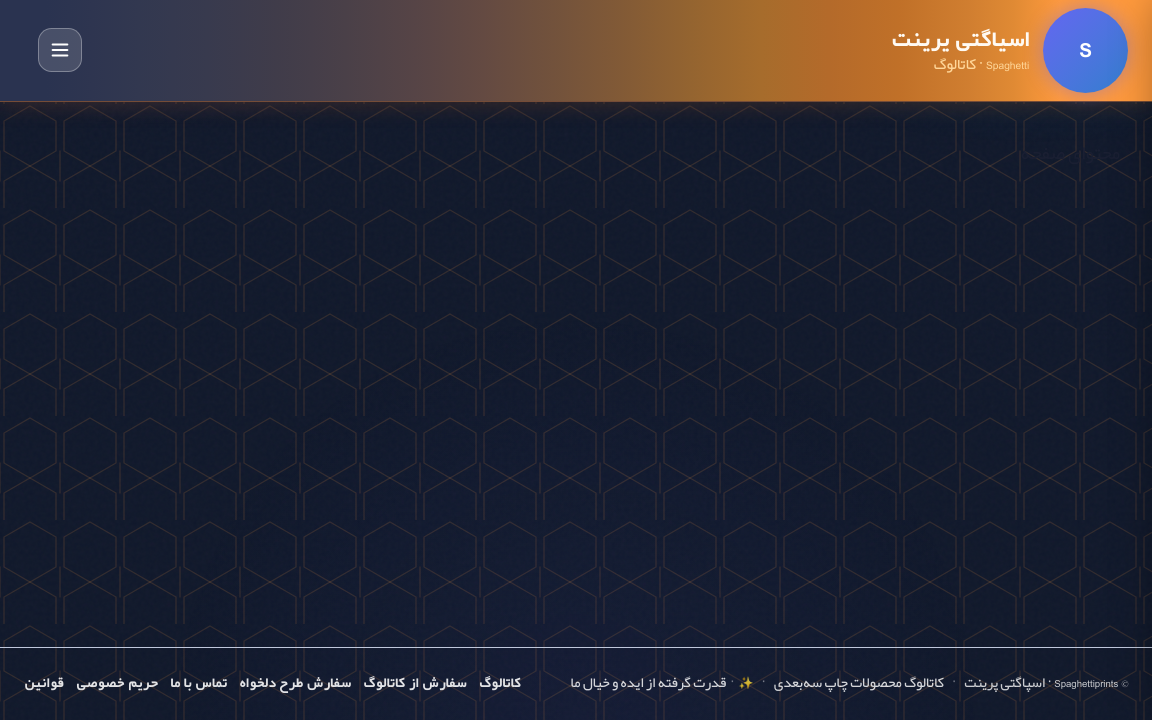
audited accessibility fixes 2026-08-23 › catalog mobile drawer receives focus, traps focus, restores focus, and hides page content while open
The image size is (1152, 720).
Click the button named "باز کردن منو".
click(60, 50)  # box [38,28,82,72]
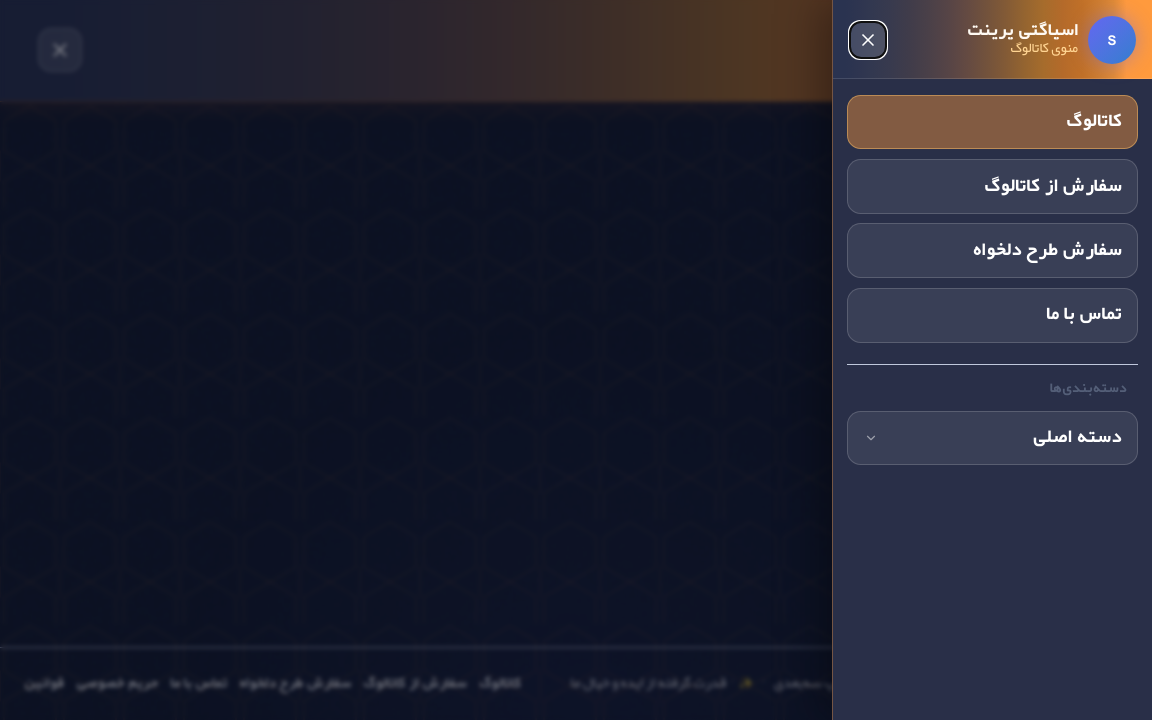
expect the button named "باز کردن منو" is expanded: met, box [38,28,82,72]
Press Shift+Tab
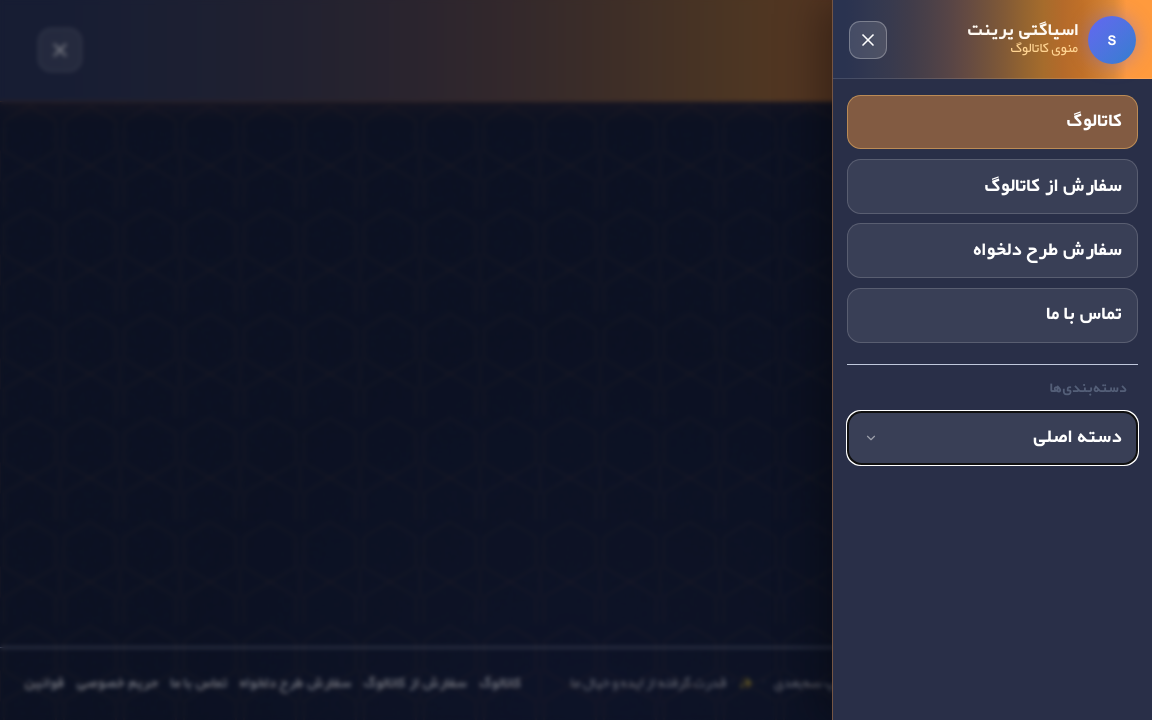
Press Escape
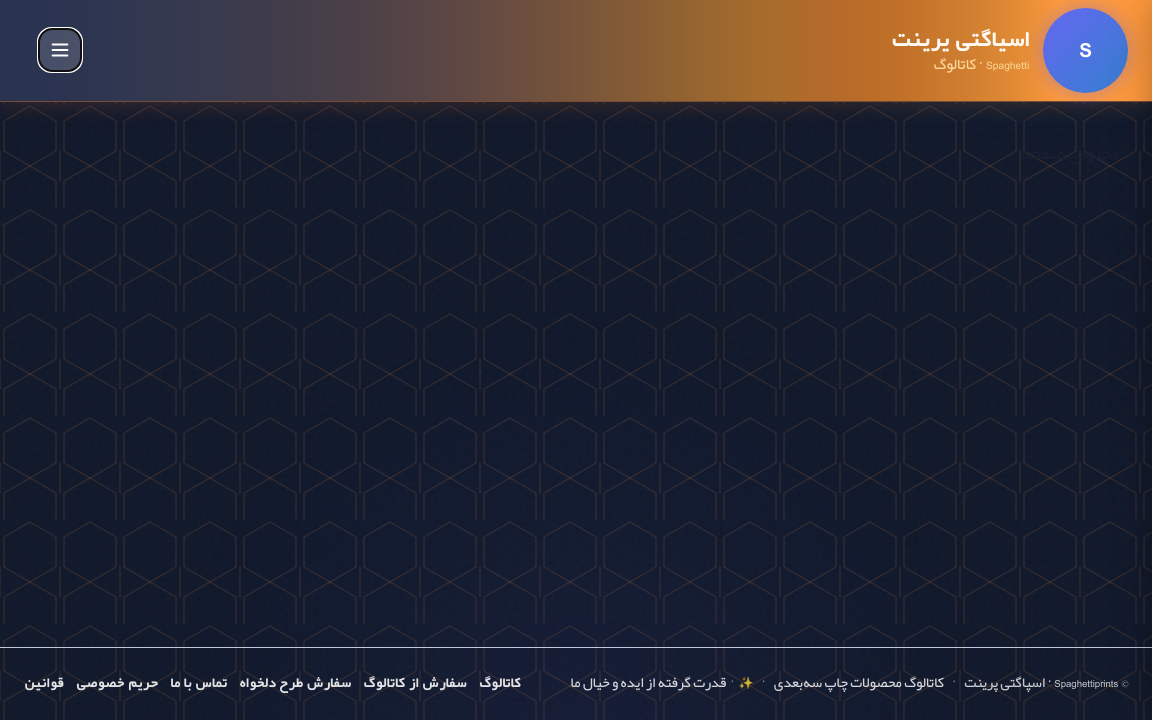
expect the button named "باز کردن منو" is collapsed: met, box [38,28,82,72]
